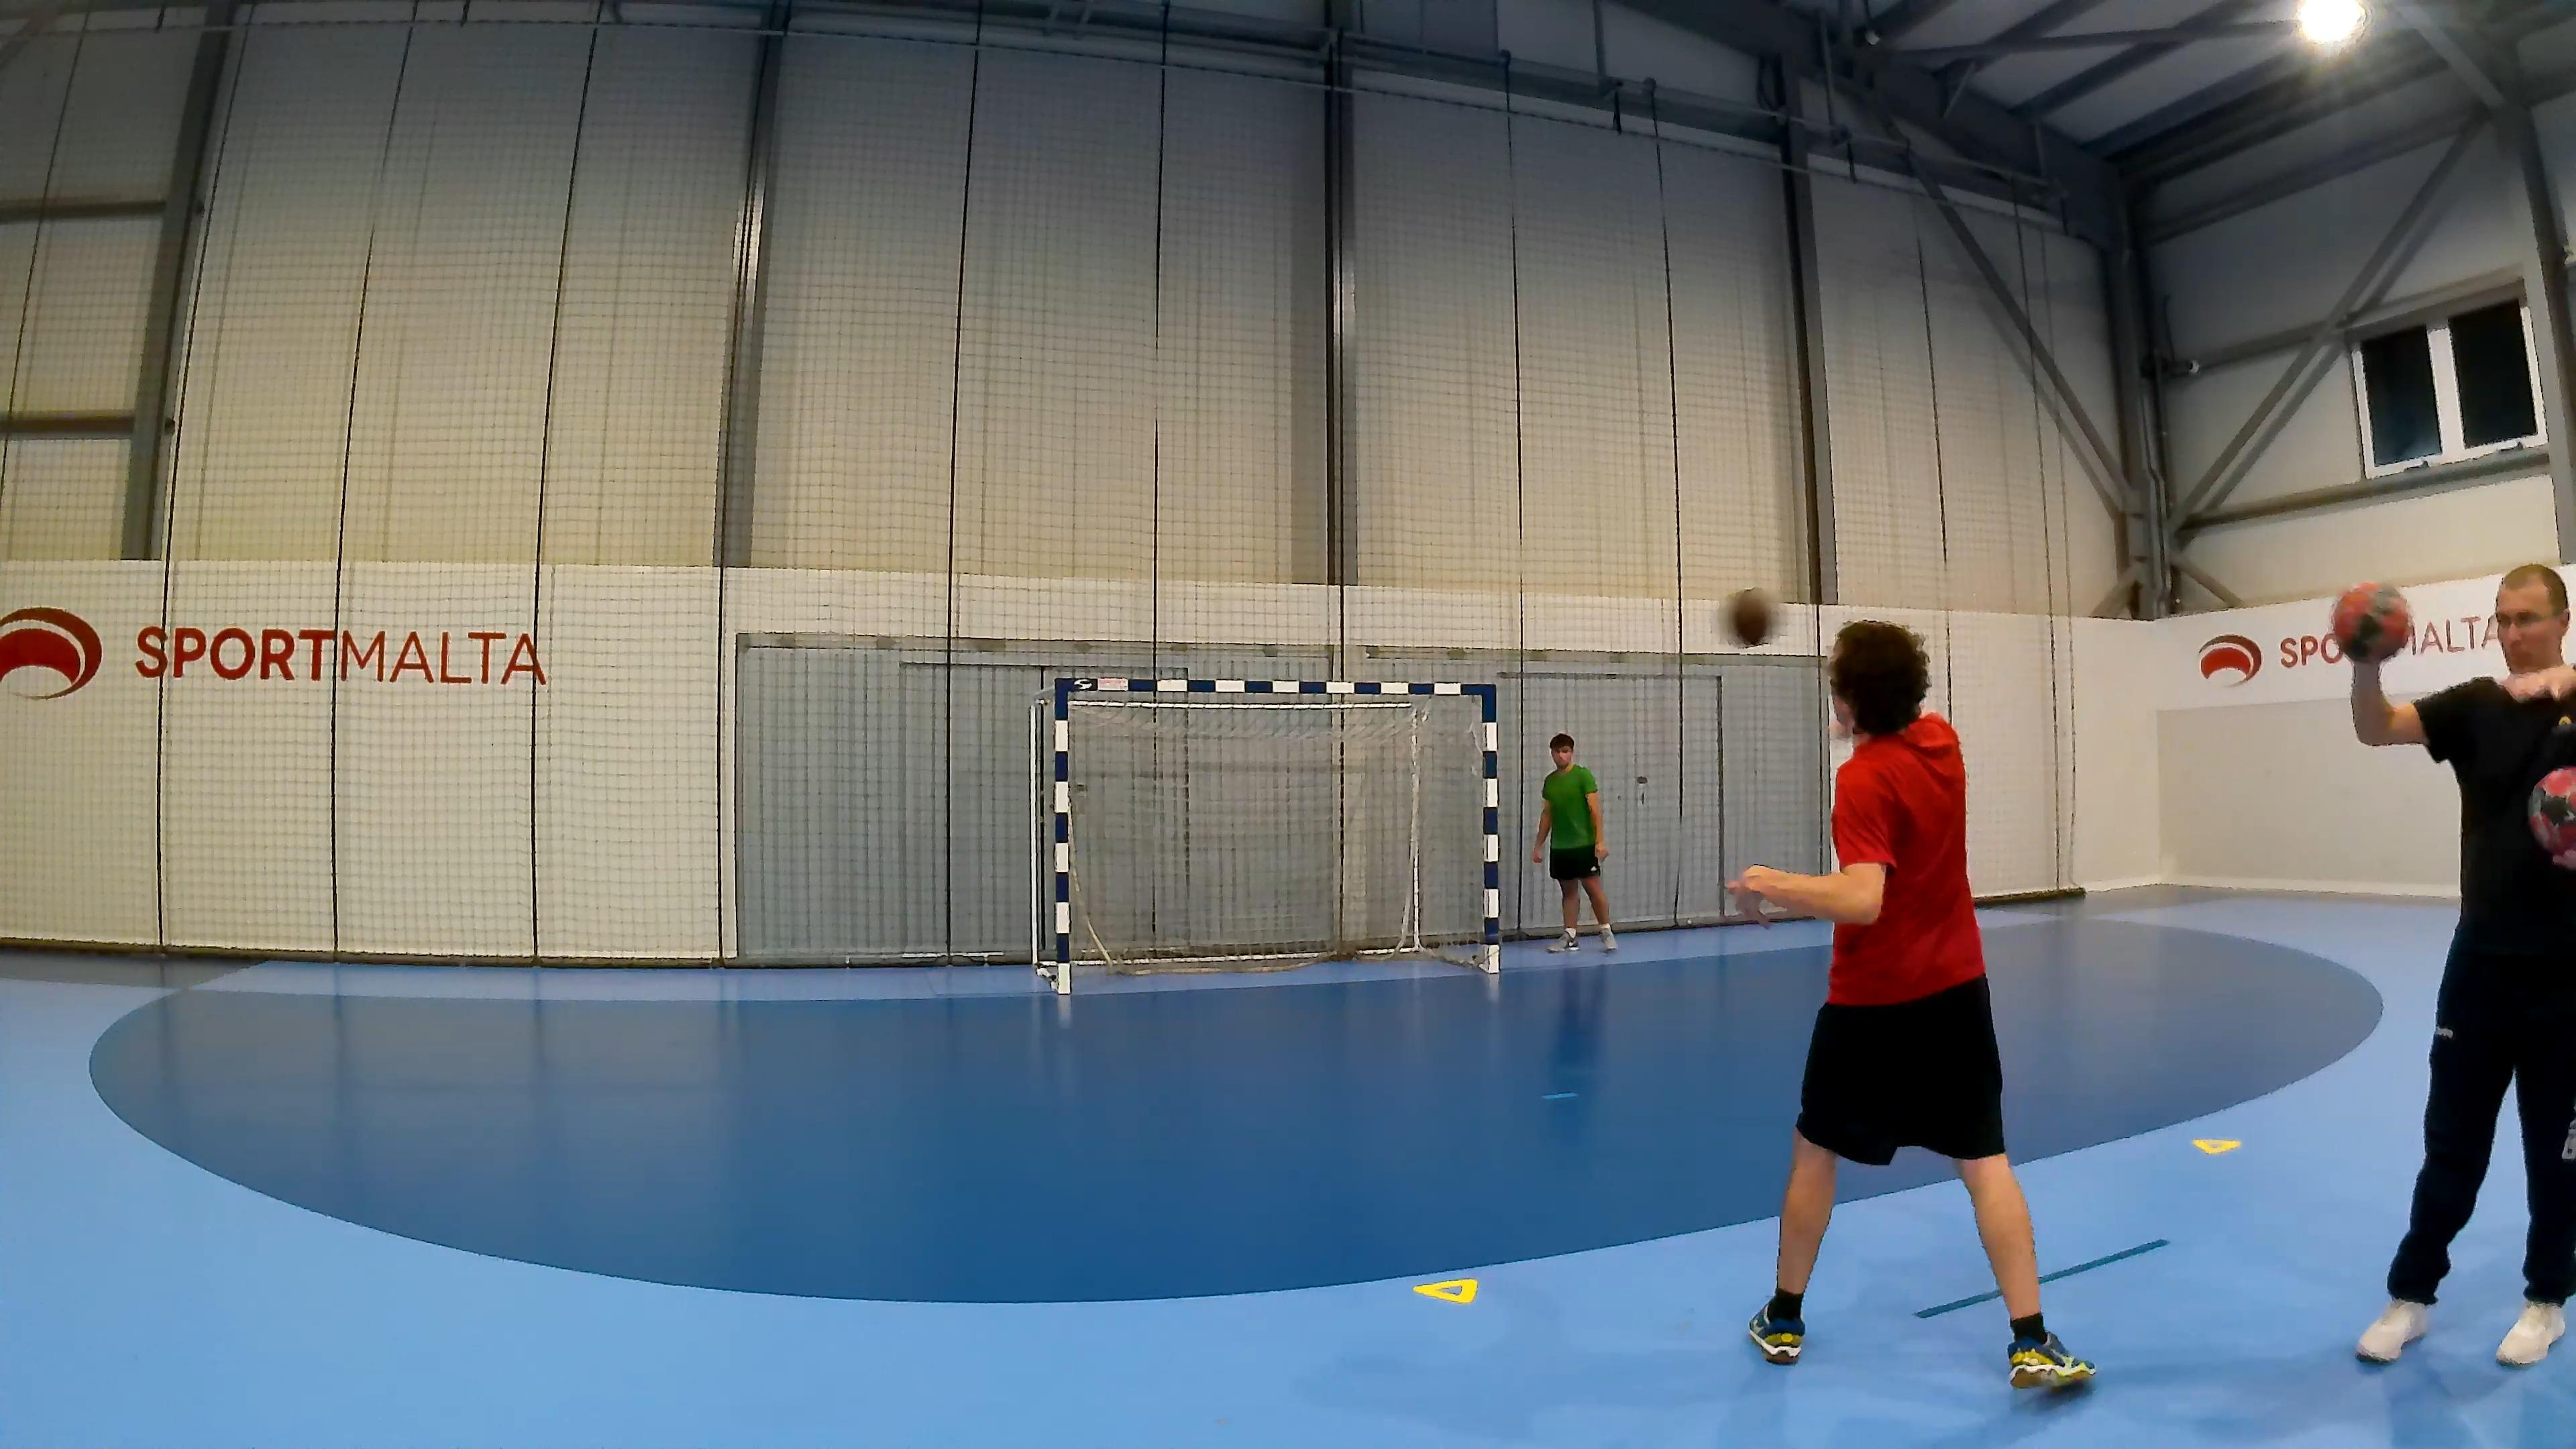handball: (2328, 580, 2411, 662), (2526, 764, 2576, 863), (1729, 586, 1771, 646)
